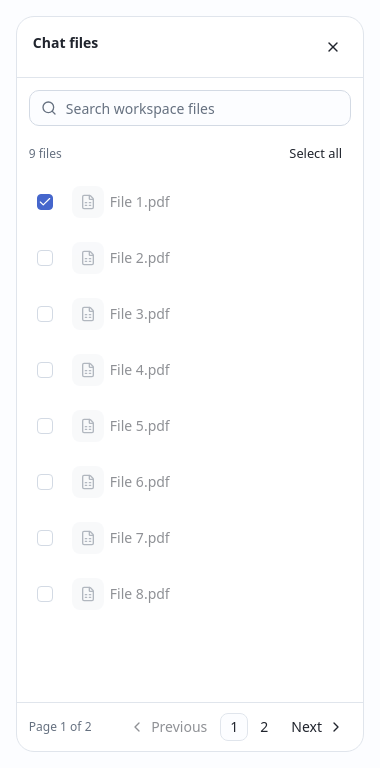
ChatDataScopeSelector › selects all resources outside the current page
Click the button "Select all" at (316, 154), box [280, 138, 351, 170]
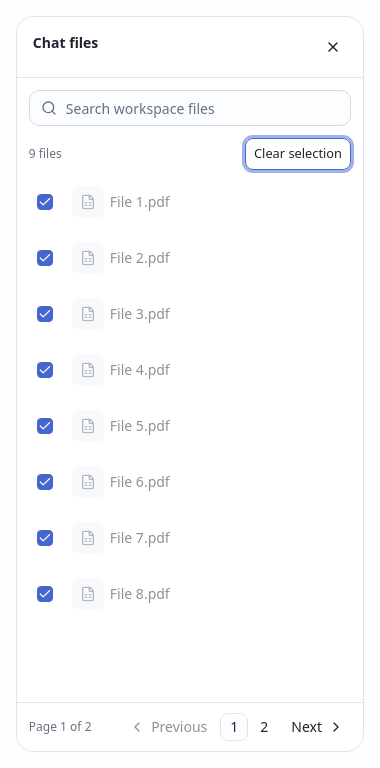
Expected: the button "Clear selection" is shown
Click the button "Clear selection" at (298, 154), box [245, 138, 351, 170]
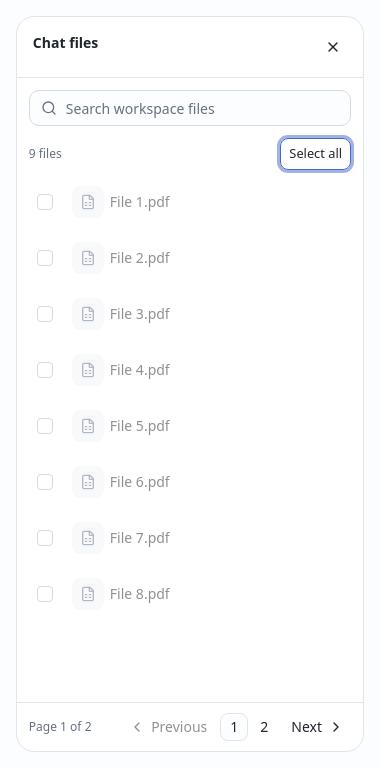
Expected: the button "Select all" is shown, [280, 138, 351, 170]
